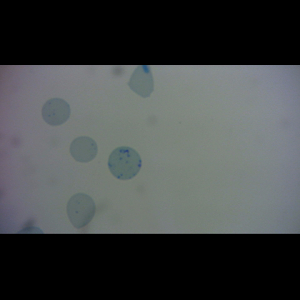aggregate reticulocyte: (107, 146, 143, 181)
erythrocyte: (125, 65, 157, 100)
punctate reticulocyte: (65, 192, 97, 230), (40, 98, 72, 127), (68, 135, 99, 164)
